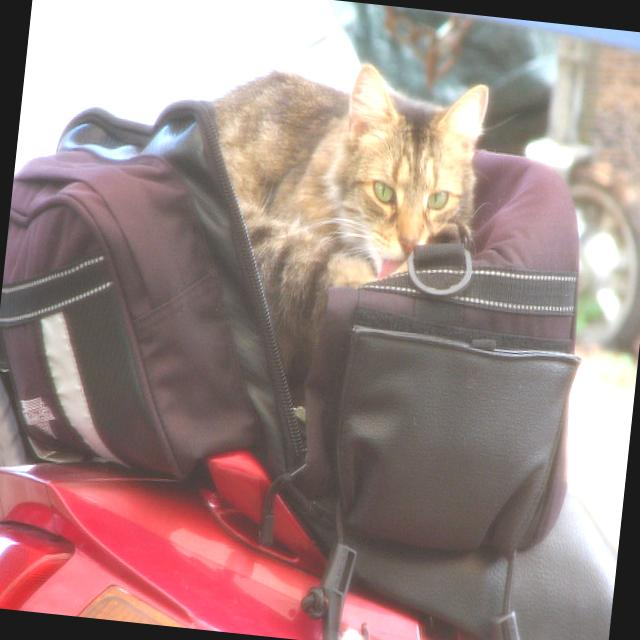Vehicle: (0, 365, 630, 640), (452, 42, 640, 361)
